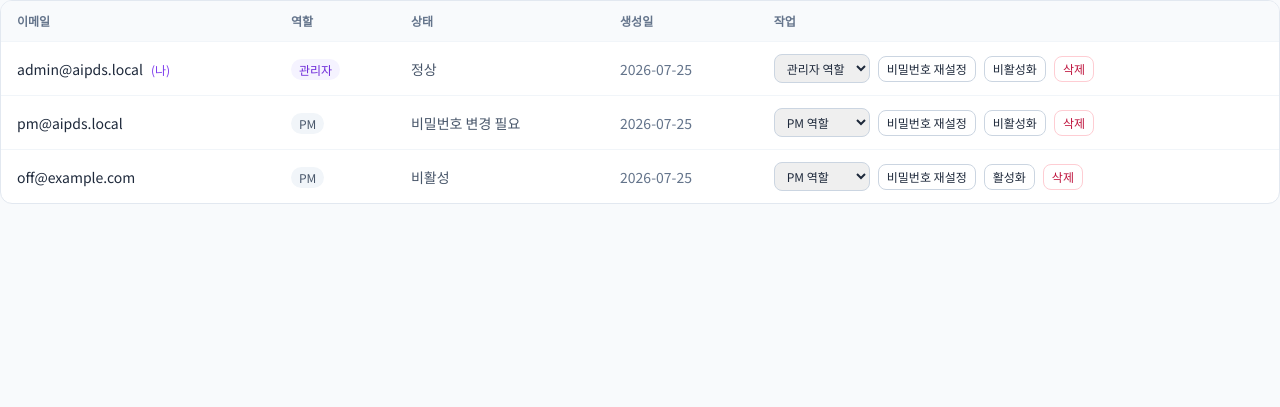
Test: UserTable › resets a password and shows it once
Click the button "비밀번호 재설정" in the row of "pm@aipds.local" at (927, 122), box top-left (878, 110), bottom-right (976, 136)
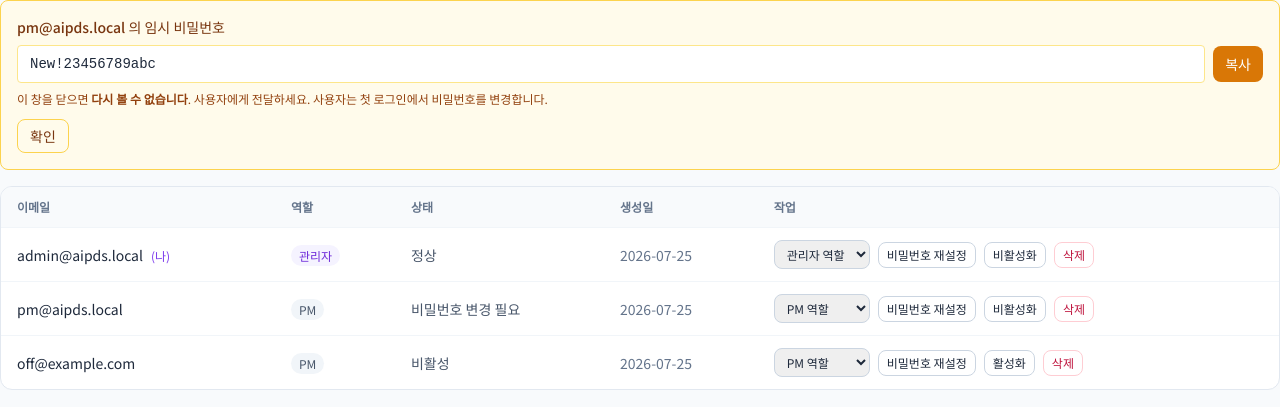
Expected: the text "New!23456789abc" is shown, top-left (17, 45), bottom-right (1205, 83)
